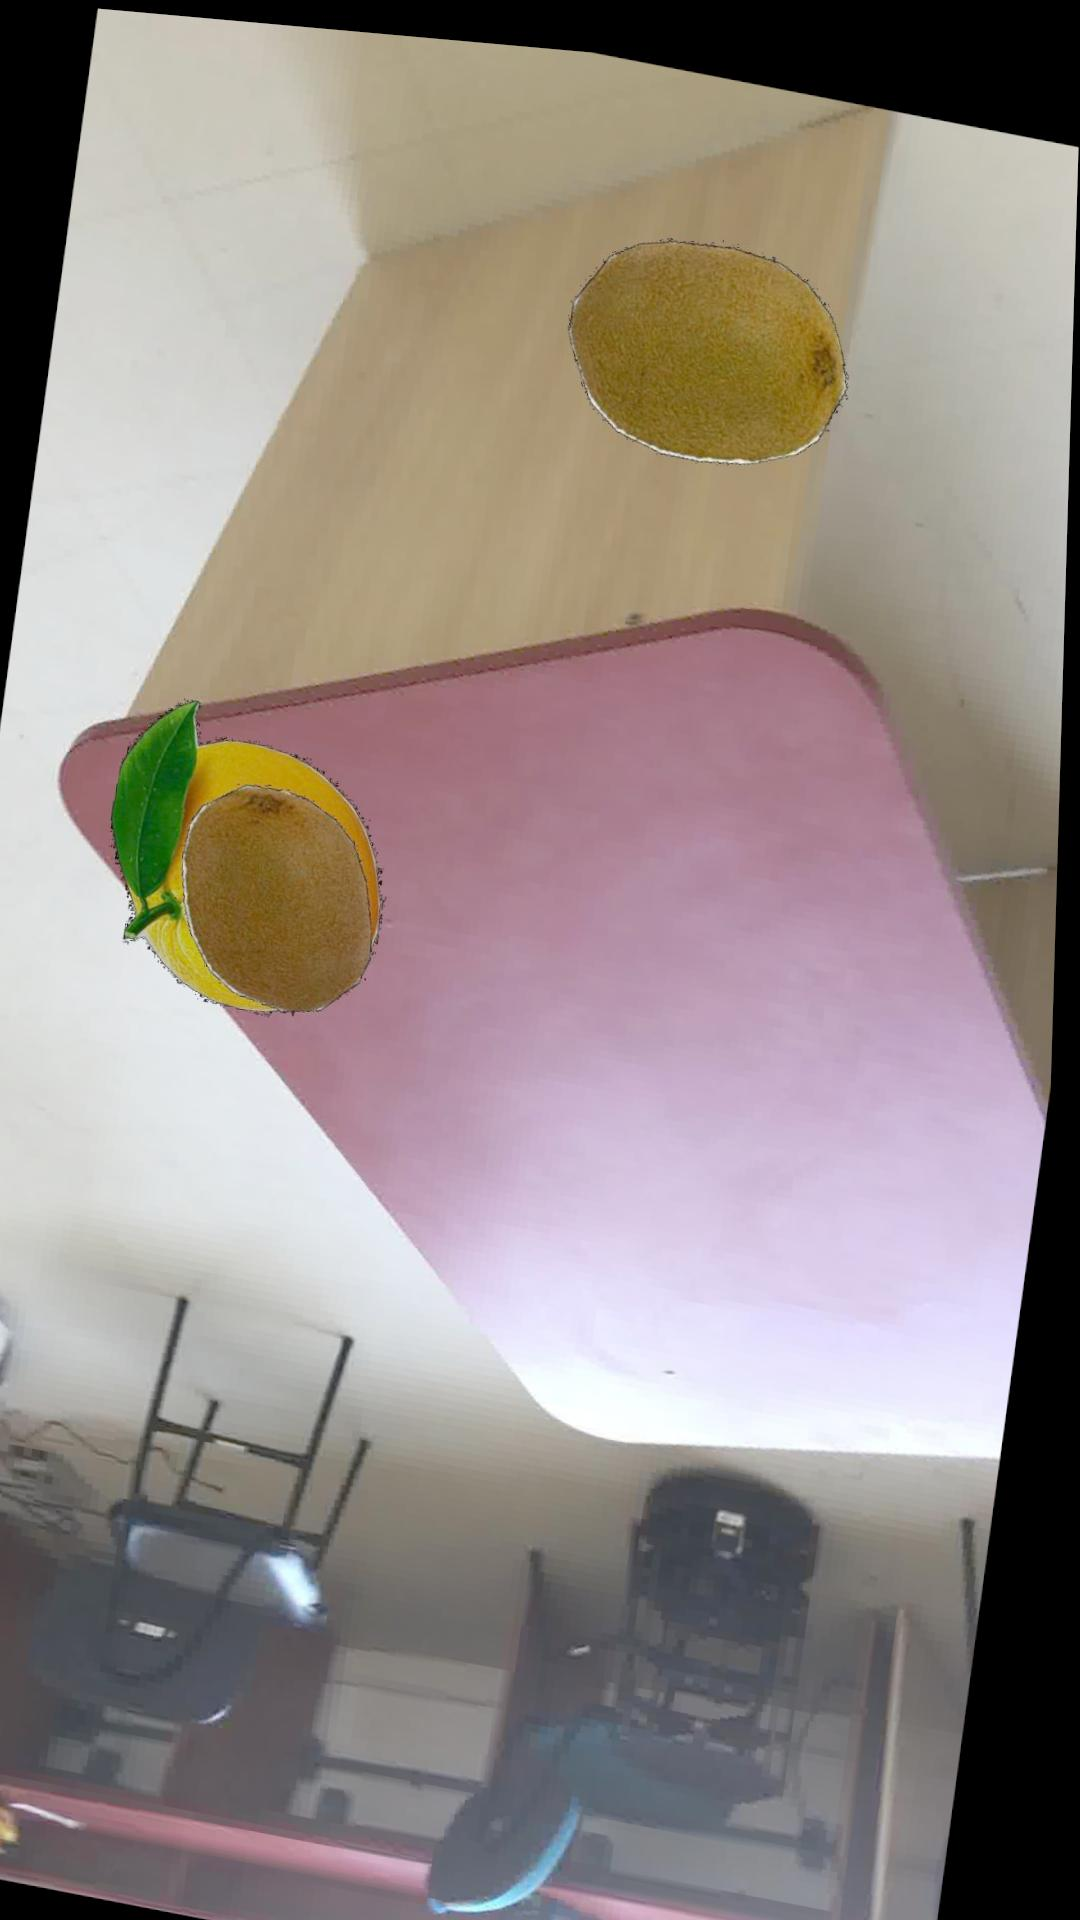kiwi: (571, 228, 852, 452), (189, 781, 380, 1007)
orange: (117, 698, 389, 1010)
